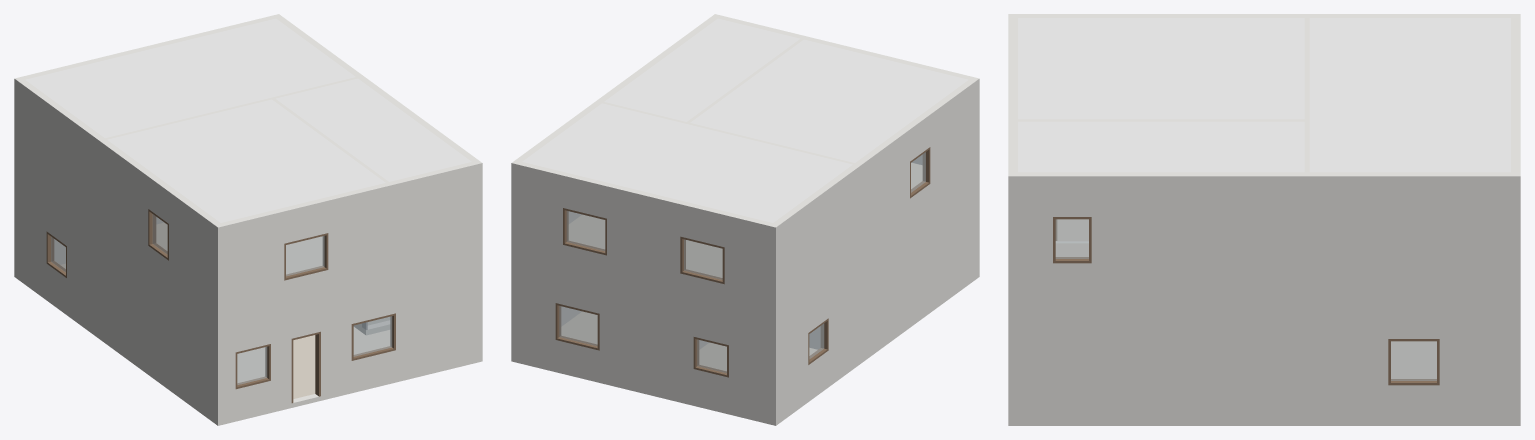
The picture shows the model from 3 angles, left to right: view 1: azimuth 30°, elevation 25°; view 2: azimuth 150°, elevation 25°; view 3: azimuth 270°, elevation 25°; orthographic projection. The views are drawn at different scales.
Visible parts, largest first — view 1: SM_T06_L01_WALLS, SM_T06_L00_WALLS, SM_T06_L01_CEILING_R13, SM_T06_L01_CEILING_R12, SM_T06_L01_CEILING_R11, SM_T06_L00_FLOOR_R01, SM_T06_L01_FLOOR_R12, SM_T06_L00_GLASS_O03, SM_T06_L01_GLASS_O23, SM_T06_L00_GLASS_O02, SM_T06_L00_FRAME_O03, SM_T06_L01_FRAME_O23 (+5 smaller); view 2: SM_T06_L01_WALLS, SM_T06_L00_WALLS, SM_T06_L01_CEILING_R13, SM_T06_L01_CEILING_R12, SM_T06_L01_CEILING_R11, SM_T06_L01_FLOOR_R13, SM_T06_L01_GLASS_O26, SM_T06_L00_GLASS_O08, SM_T06_L01_GLASS_O25, SM_T06_L00_FLOOR_R03, SM_T06_L00_GLASS_O07, SM_T06_L00_FLOOR_R02 (+7 smaller); view 3: SM_T06_L01_WALLS, SM_T06_L00_WALLS, SM_T06_L01_CEILING_R13, SM_T06_L01_CEILING_R12, SM_T06_L01_CEILING_R11, SM_T06_L00_GLASS_O09, SM_T06_L00_FLOOR_R03, SM_T06_L01_GLASS_O27, SM_T06_L00_FRAME_O09, SM_T06_L01_FLOOR_R12, SM_T06_L01_FRAME_O27.
Boxes of the visible parts, x1=… form: SM_T06_L01_WALLS: x1=14, y1=14, x2=482, y2=328; SM_T06_L00_WALLS: x1=14, y1=179, x2=482, y2=425; SM_T06_L01_CEILING_R13: x1=25, y1=18, x2=355, y2=138; SM_T06_L01_CEILING_R12: x1=107, y1=99, x2=385, y2=222; SM_T06_L01_CEILING_R11: x1=276, y1=78, x2=471, y2=181; SM_T06_L00_FLOOR_R01: x1=237, y1=327, x2=390, y2=398; SM_T06_L01_FLOOR_R12: x1=156, y1=222, x2=322, y2=274; SM_T06_L00_GLASS_O03: x1=353, y1=316, x2=392, y2=356; SM_T06_L01_GLASS_O23: x1=286, y1=236, x2=324, y2=276; SM_T06_L00_GLASS_O02: x1=237, y1=347, x2=267, y2=384; SM_T06_L00_FRAME_O03: x1=351, y1=313, x2=395, y2=360; SM_T06_L01_FRAME_O23: x1=284, y1=233, x2=328, y2=280; SM_T06_L01_WALLS: x1=511, y1=14, x2=979, y2=328; SM_T06_L00_WALLS: x1=511, y1=179, x2=979, y2=425; SM_T06_L01_CEILING_R13: x1=522, y1=103, x2=852, y2=222; SM_T06_L01_CEILING_R12: x1=690, y1=39, x2=968, y2=162; SM_T06_L01_CEILING_R11: x1=604, y1=18, x2=799, y2=121; SM_T06_L01_FLOOR_R13: x1=568, y1=214, x2=722, y2=277; SM_T06_L01_GLASS_O26: x1=566, y1=211, x2=605, y2=251; SM_T06_L00_GLASS_O08: x1=559, y1=306, x2=597, y2=345; SM_T06_L01_GLASS_O25: x1=684, y1=239, x2=722, y2=279; SM_T06_L00_FLOOR_R03: x1=561, y1=311, x2=597, y2=344; SM_T06_L00_GLASS_O07: x1=697, y1=339, x2=726, y2=373; SM_T06_L00_FLOOR_R02: x1=699, y1=342, x2=817, y2=371; SM_T06_L01_WALLS: x1=1008, y1=14, x2=1520, y2=303; SM_T06_L00_WALLS: x1=1008, y1=303, x2=1520, y2=425; SM_T06_L01_CEILING_R13: x1=1309, y1=18, x2=1510, y2=172; SM_T06_L01_CEILING_R12: x1=1018, y1=18, x2=1304, y2=119; SM_T06_L01_CEILING_R11: x1=1018, y1=121, x2=1304, y2=172; SM_T06_L00_GLASS_O09: x1=1391, y1=341, x2=1436, y2=380; SM_T06_L00_FLOOR_R03: x1=1391, y1=341, x2=1436, y2=378; SM_T06_L01_GLASS_O27: x1=1055, y1=219, x2=1088, y2=258; SM_T06_L00_FRAME_O09: x1=1388, y1=339, x2=1439, y2=385; SM_T06_L01_FLOOR_R12: x1=1056, y1=219, x2=1088, y2=241; SM_T06_L01_FRAME_O27: x1=1053, y1=217, x2=1091, y2=263.
Bounding box in the file's own units: 900 × 645 × 1200.
